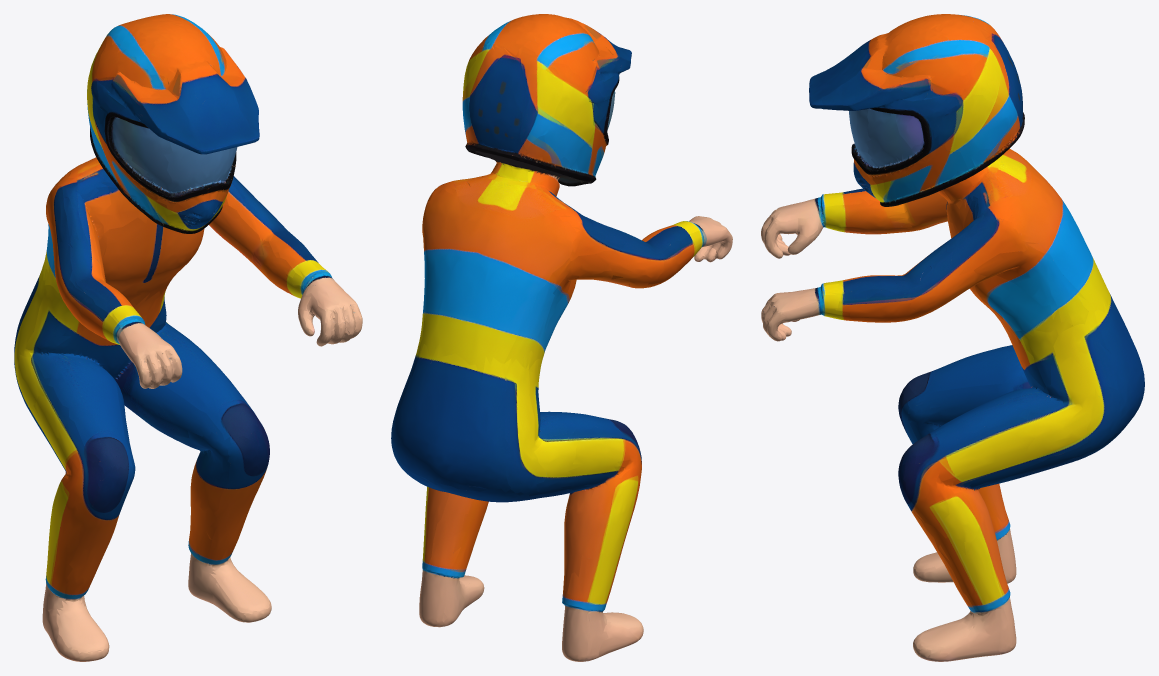
The model's file is mdl-rider.glb.
3 renders of one model, left to right at view 1: azimuth 30°, elevation 25°; view 2: azimuth 150°, elevation 25°; view 3: azimuth 270°, elevation 25°, orthographic. The views are drawn at different scales.
Size of the model in its own units: 0.7437 by 1.9 by 1.11.
1 material, 1 textured.
